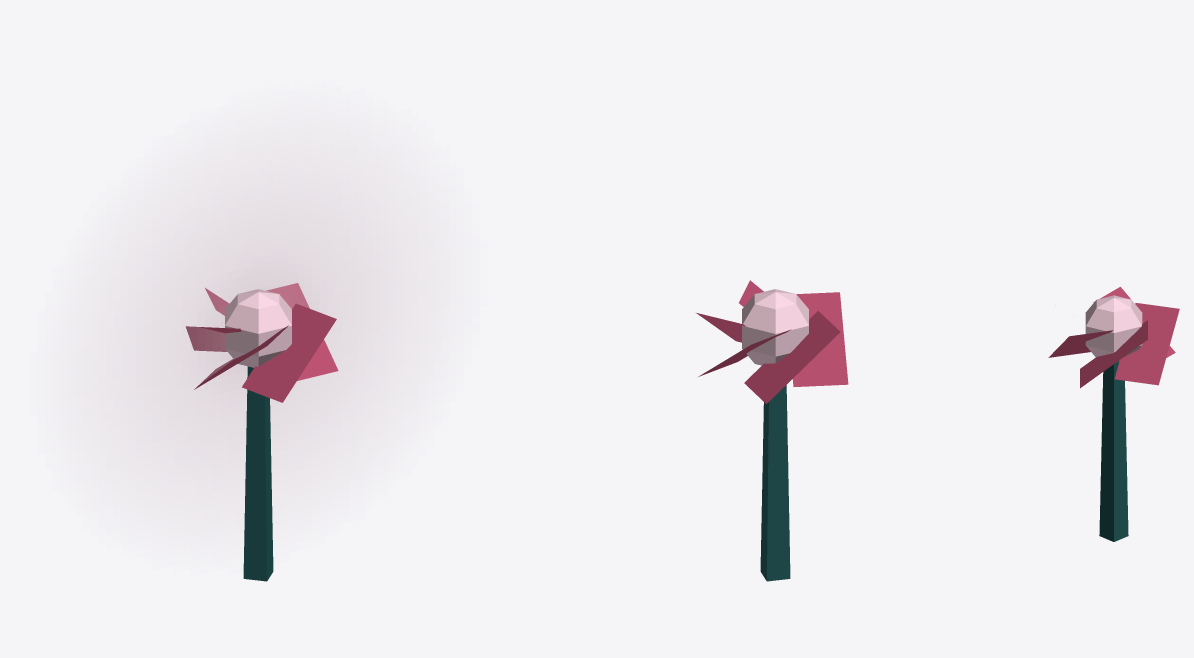
Rendered from swamp_glowFlower.glb.
3 views of the same model, side by side, from view 1: azimuth 30°, elevation 25°; view 2: azimuth 150°, elevation 25°; view 3: azimuth 270°, elevation 25° (orthographic). The views are drawn at different scales.
Parts seen in each view (by area): view 1: n14, n1, n13, n5, n3, n9; view 2: n1, n13, n7, n9; view 3: n1, n11, n13, n3, n5, n9.
Boxes of the visible parts, bbox=[...] form: n14: bbox=[99, 157, 417, 500]; n1: bbox=[243, 366, 273, 581]; n13: bbox=[225, 289, 291, 367]; n5: bbox=[242, 303, 336, 402]; n3: bbox=[266, 283, 338, 380]; n9: bbox=[185, 326, 241, 351]; n1: bbox=[760, 385, 790, 581]; n13: bbox=[742, 289, 808, 365]; n7: bbox=[792, 292, 848, 386]; n9: bbox=[744, 311, 840, 403]; n1: bbox=[1099, 361, 1128, 541]; n11: bbox=[1114, 303, 1179, 385]; n13: bbox=[1085, 295, 1142, 361]; n3: bbox=[1080, 320, 1147, 388]; n5: bbox=[1048, 330, 1112, 357]; n9: bbox=[1093, 287, 1175, 357].
Bounding box in the file's own units: 1.63 × 1.63 × 0.453.
4 materials, 1 textured.
